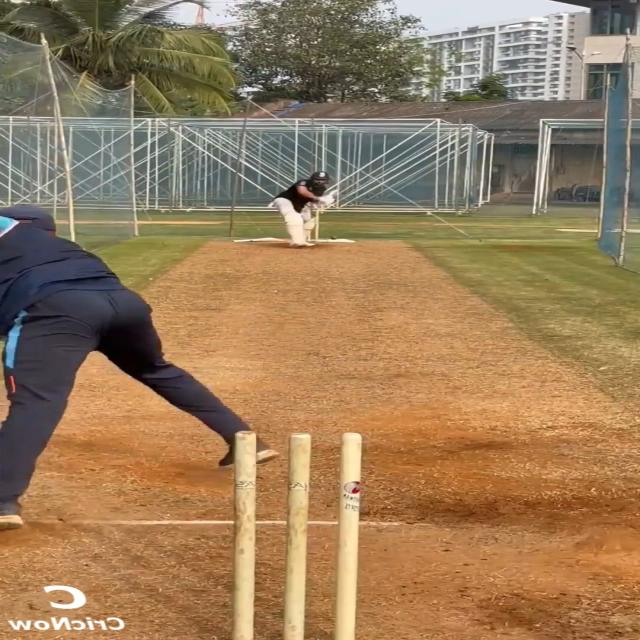ball: (330, 236, 338, 240)
stump: (229, 429, 365, 640)
